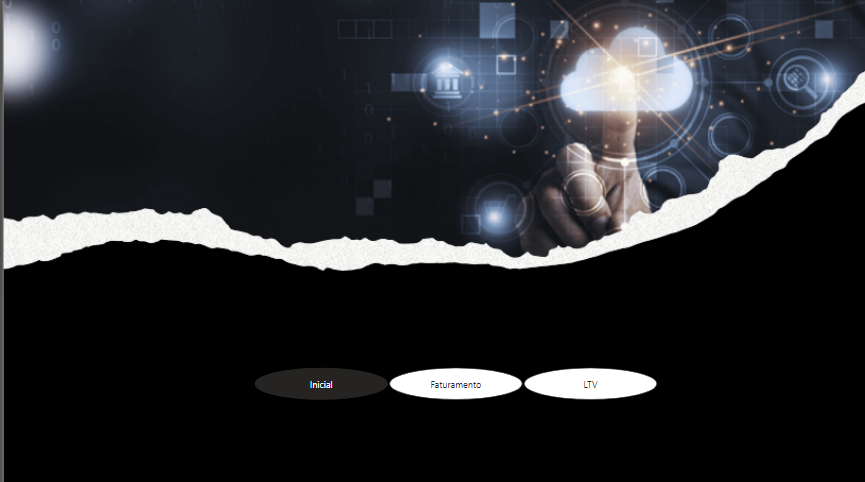

This screenshot's page, from the dashboard's own definition file:
{"tool":"powerbi","page":{"name":"Inicial","canvas":[1280,720],"ordinal":0},"visuals":[{"type":"image","box":[0,0,1280.5,720],"z":0},{"type":"pageNavigator","box":[379,542.9,591.2,49.8],"z":1000}]}

Visuals, with their boxes in screenshot pixels (x1, y1, x2, y2), scaled from the page's 1280x720 canvas onto the 865x482 screenshot:
image: region(0, 0, 864, 481)
pageNavigator: region(256, 363, 656, 397)
